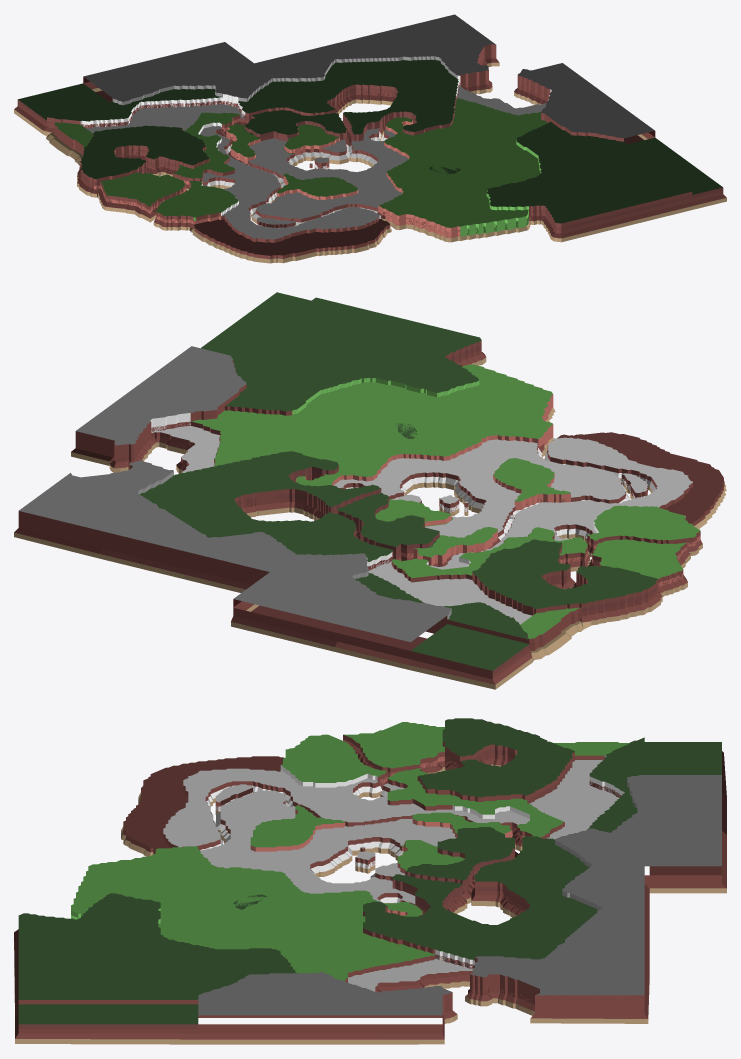
Rendered from main_zone_map.glb.
3 renders of one model, top to bottom at view 1: azimuth 30°, elevation 25°; view 2: azimuth 150°, elevation 25°; view 3: azimuth 270°, elevation 25°, orthographic. The views are drawn at different scales.
Visible parts, largest first — view 1: BACKUP, Plane; view 2: BACKUP, Plane; view 3: BACKUP, Plane.
Part boxes in pixels (x1,y1,x2,y2): BACKUP: [47, 15, 692, 259]; Plane: [14, 14, 726, 263]; BACKUP: [18, 297, 724, 651]; Plane: [14, 292, 726, 689]; BACKUP: [18, 718, 644, 1017]; Plane: [14, 739, 726, 1044].
Bounding box in the file's own units: 291 × 16.15 × 286.
